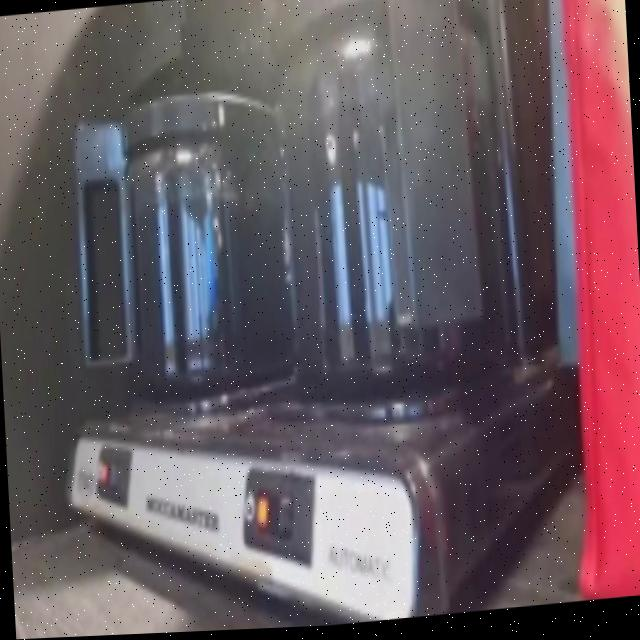coffee: (281, 77, 500, 387), (124, 165, 289, 391)
